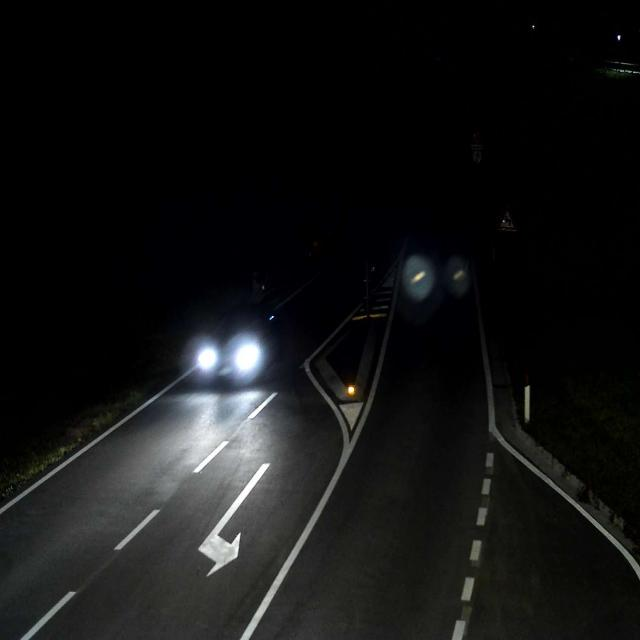car: (194, 303, 279, 386)
